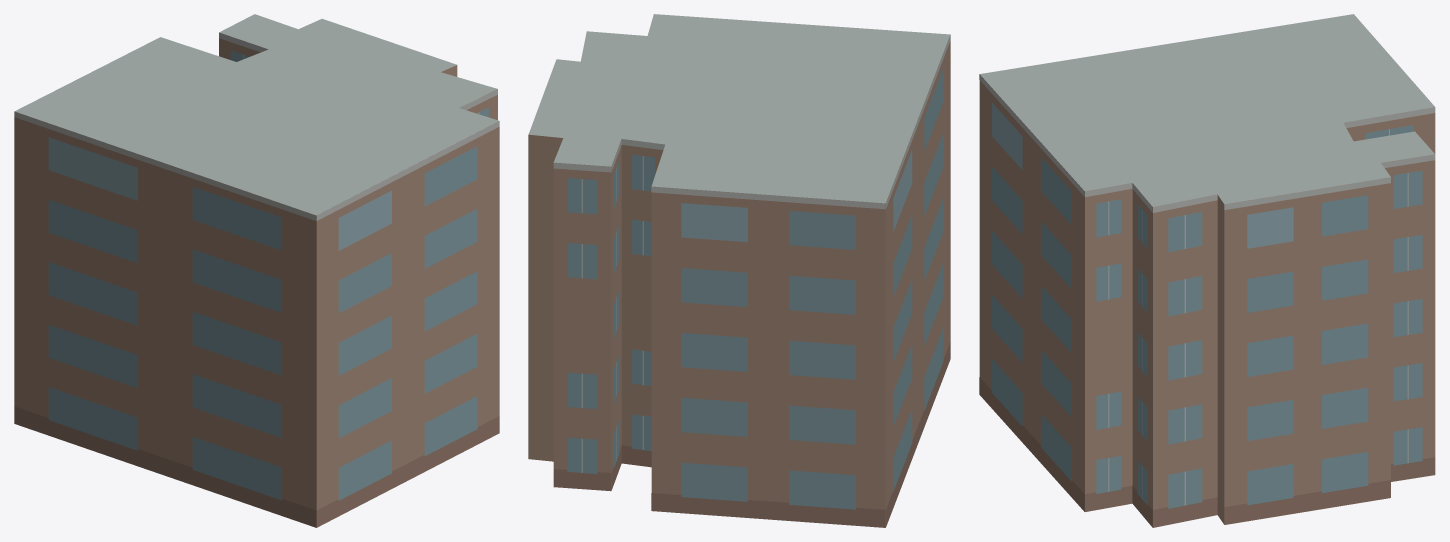
Rendered from survey-upis-32844778.glb.
The picture shows the model from 3 angles, left to right: view 1: azimuth 30°, elevation 25°; view 2: azimuth 150°, elevation 25°; view 3: azimuth 270°, elevation 25°; orthographic projection. The views are drawn at different scales.
Parts seen in each view (by area): view 1: survey-upis-32844778.tmp; view 2: survey-upis-32844778.tmp; view 3: survey-upis-32844778.tmp.
Boxes of the visible parts, x1,y1,x2,y2 form: survey-upis-32844778.tmp: (14,14,499,527); survey-upis-32844778.tmp: (528,14,950,527); survey-upis-32844778.tmp: (979,14,1435,527).
Bounding box in the file's own units: 17.32 × 13.4 × 17.27.
